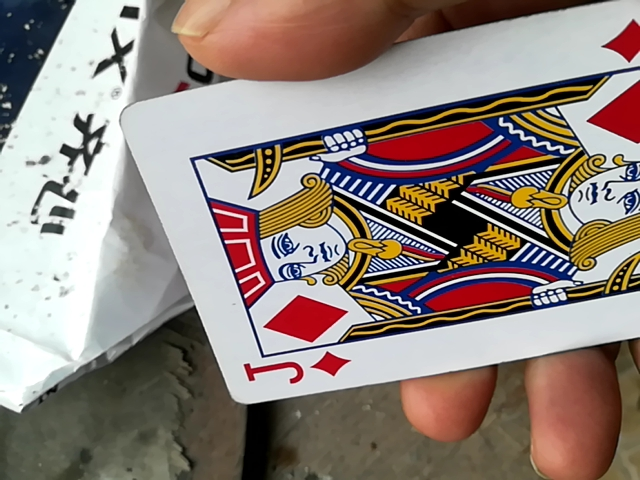fk j: (132, 0, 634, 409)
